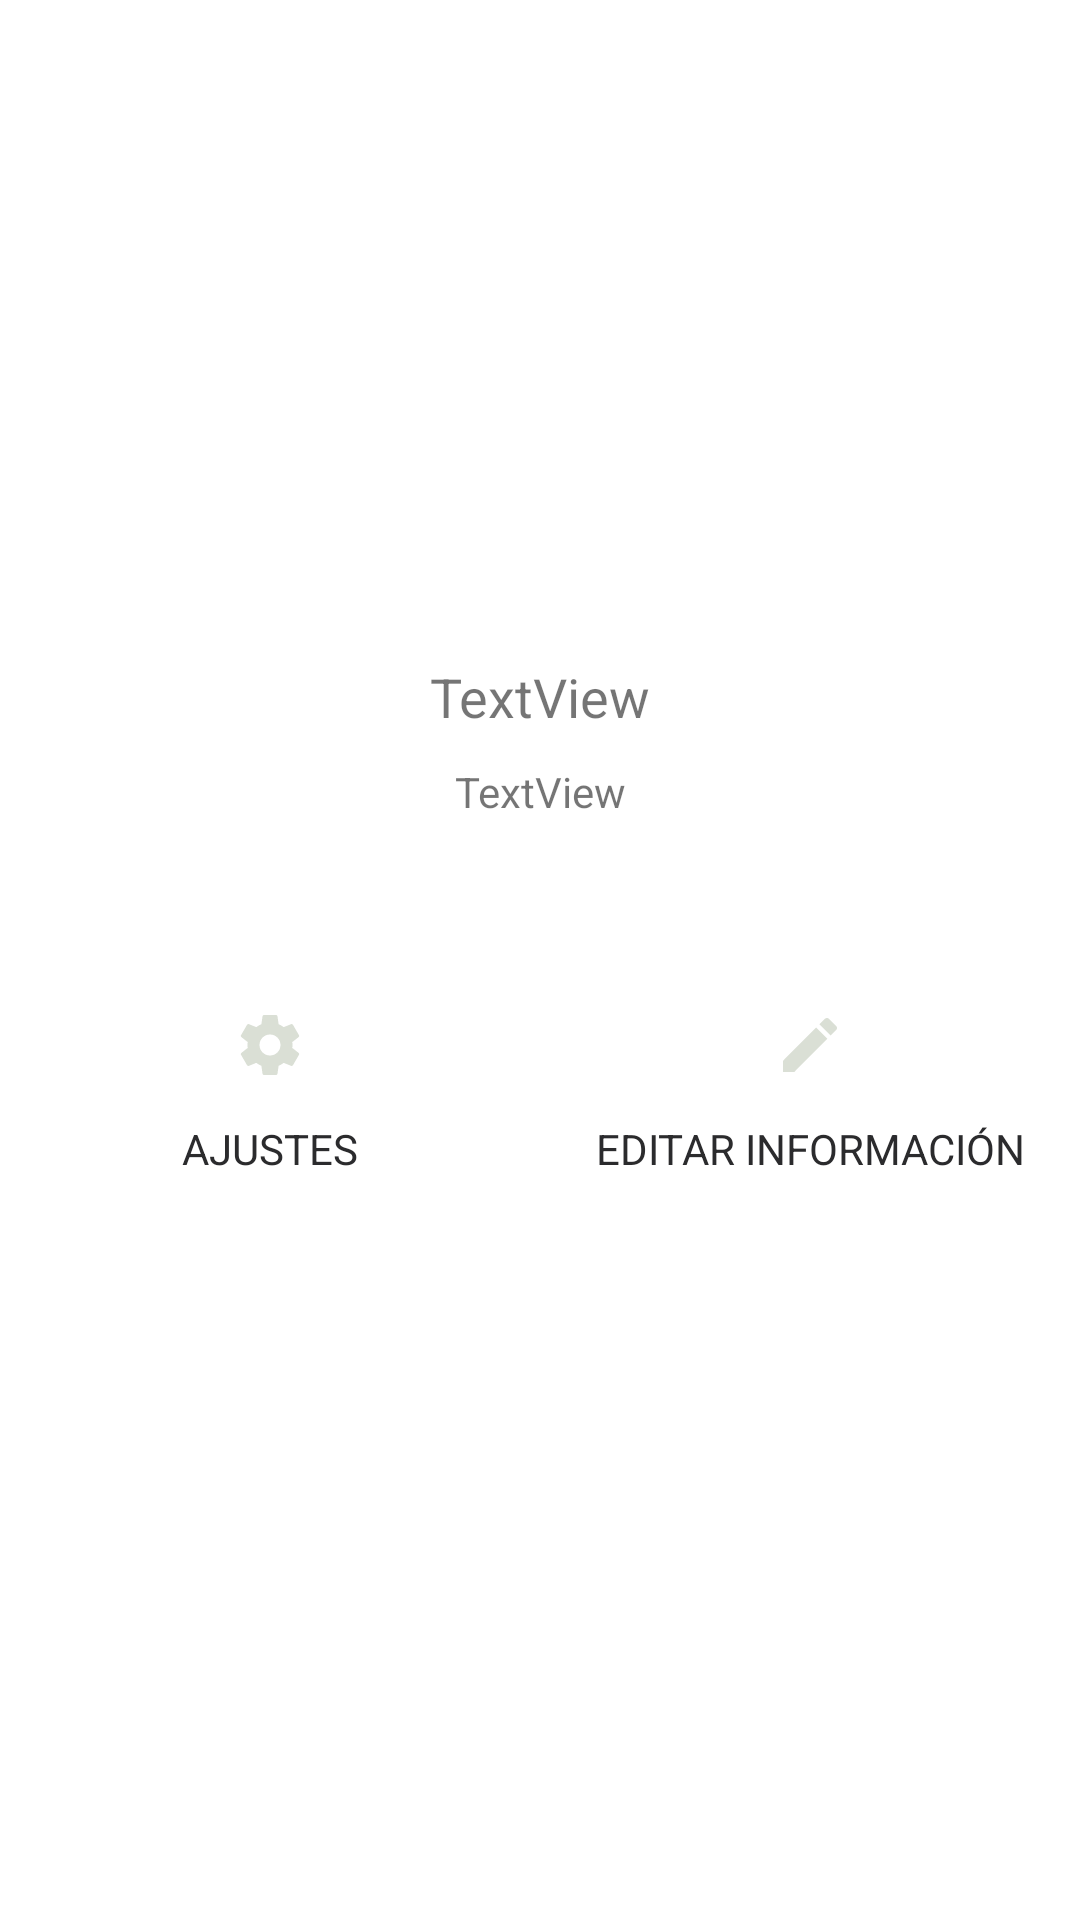

Icon bounding boxes for this 1080 x 1920 phone screenshot, format (x1, y1, x2, y2):
create: (783, 1018, 837, 1072)
settings: (241, 1015, 299, 1075)
